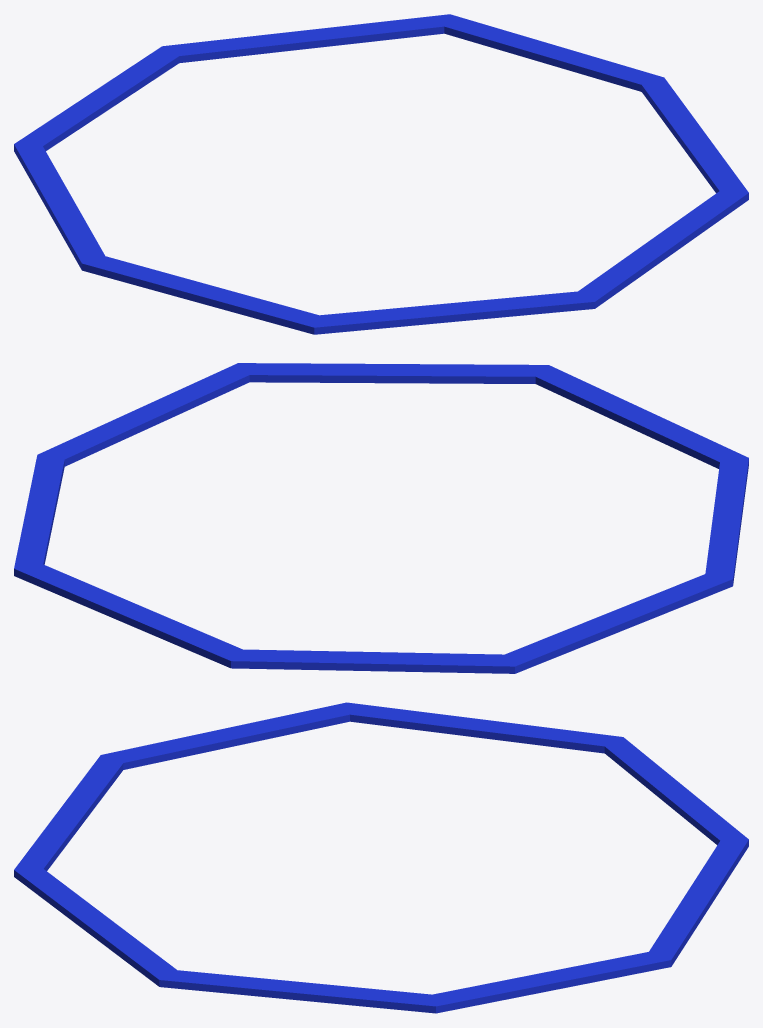
3 renders of one model, top to bottom at view 1: azimuth 30°, elevation 25°; view 2: azimuth 150°, elevation 25°; view 3: azimuth 270°, elevation 25°, orthographic. The views are drawn at different scales.
Visible parts, largest first — view 1: Plane.001; view 2: Plane.001; view 3: Plane.001.
Boxes of the visible parts, bbox=[...] form: Plane.001: bbox=[14, 14, 748, 334]; Plane.001: bbox=[14, 363, 748, 673]; Plane.001: bbox=[14, 702, 748, 1013].
Size of the model in its own units: 300 by 3.24 by 306.
